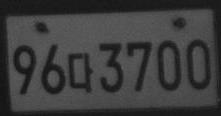0: (184, 38, 211, 90), (156, 39, 181, 91)
3: (98, 42, 123, 94)
6: (40, 44, 66, 94)
7: (126, 40, 152, 91)
9: (12, 43, 37, 95)
다: (67, 51, 93, 93)
